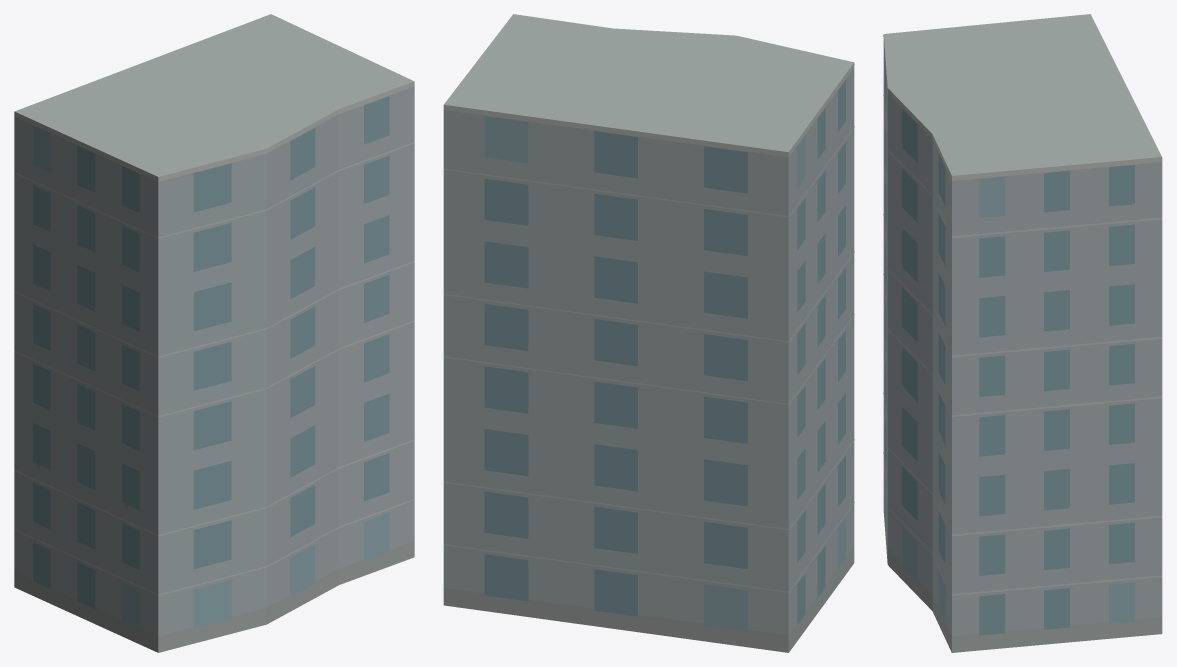
The model's file is survey-upis-32979516.glb.
The picture shows the model from 3 angles, left to right: view 1: azimuth 30°, elevation 25°; view 2: azimuth 150°, elevation 25°; view 3: azimuth 270°, elevation 25°; orthographic projection. The views are drawn at different scales.
Visible parts, largest first — view 1: survey-upis-32979516.tmp; view 2: survey-upis-32979516.tmp; view 3: survey-upis-32979516.tmp.
Boxes of the visible parts, x1,y1,x2,y2 form: survey-upis-32979516.tmp: (14,14,414,652); survey-upis-32979516.tmp: (443,14,854,652); survey-upis-32979516.tmp: (883,14,1162,652).
Size of the model in its own units: 17.06 by 23.4 by 12.4.
